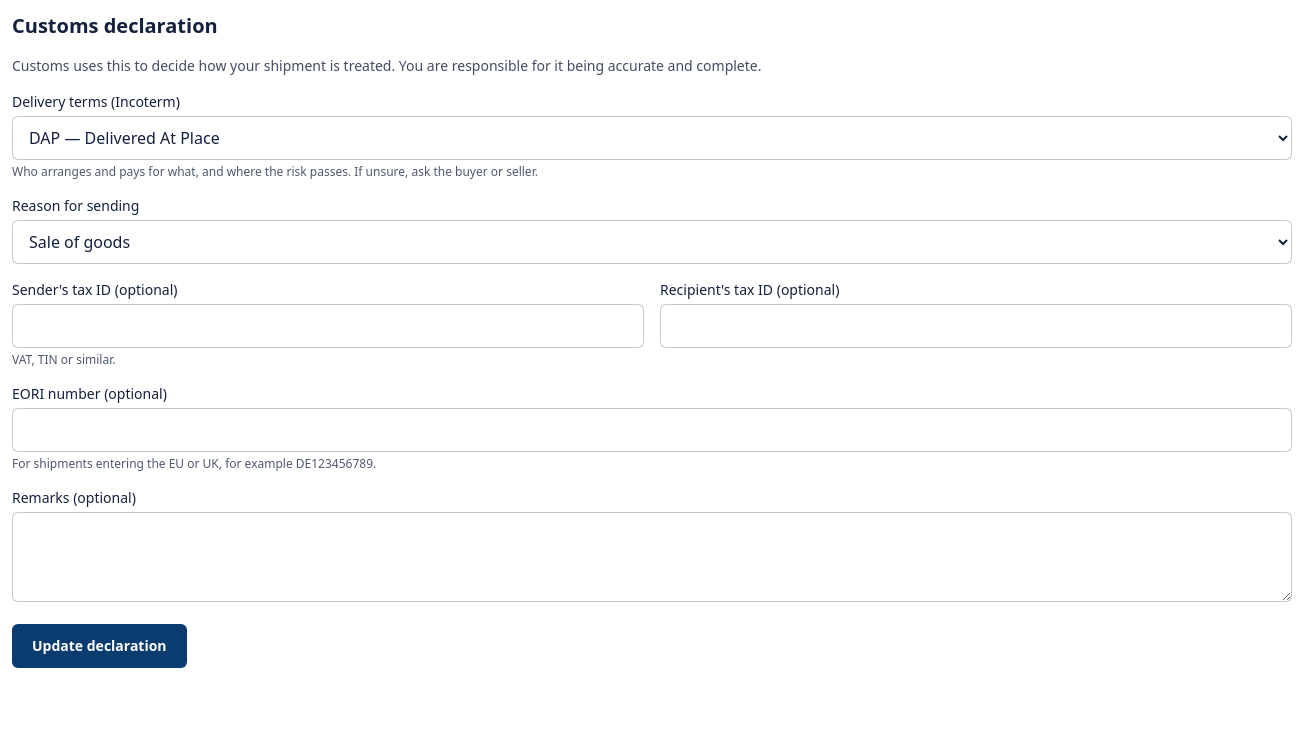
DeclarationForm › explains a shipment that finished in the meantime
Click the button "Update declaration" at (99, 646), box [12, 624, 187, 668]
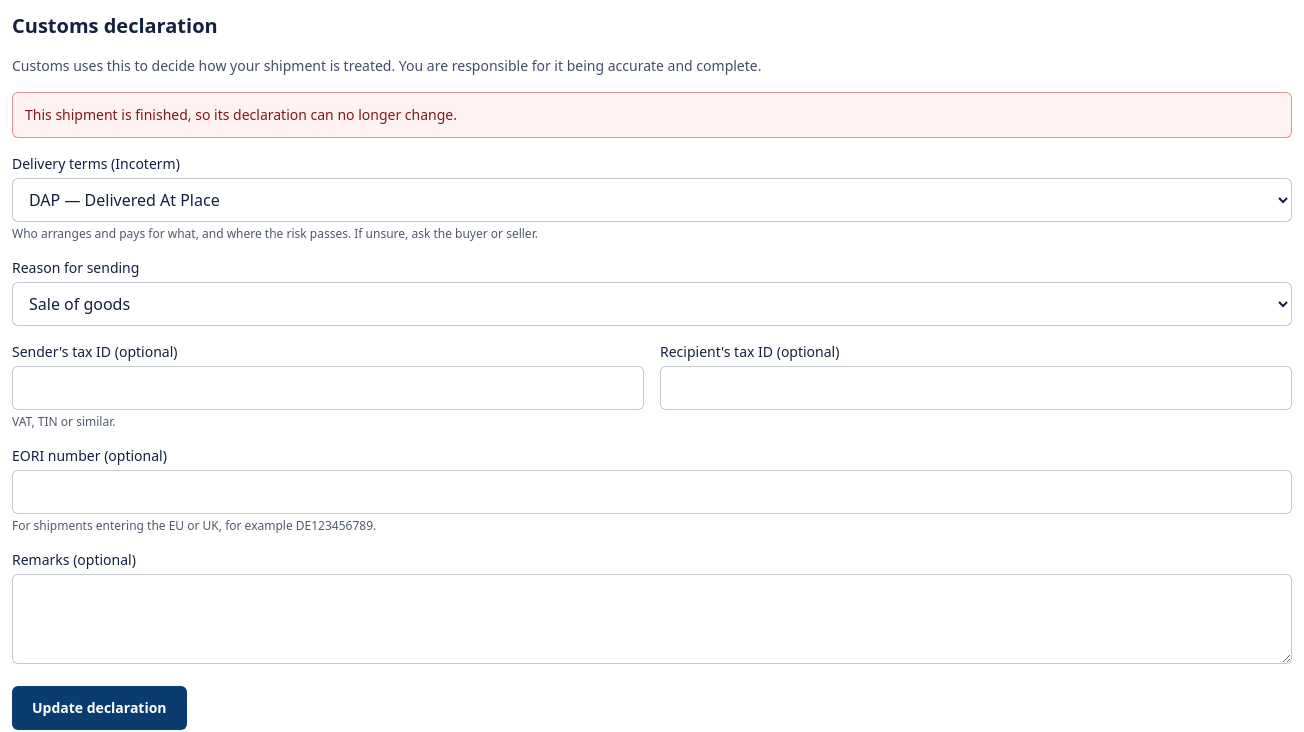
Expected: the message shows "shipment is finished", [25, 105, 457, 124]
